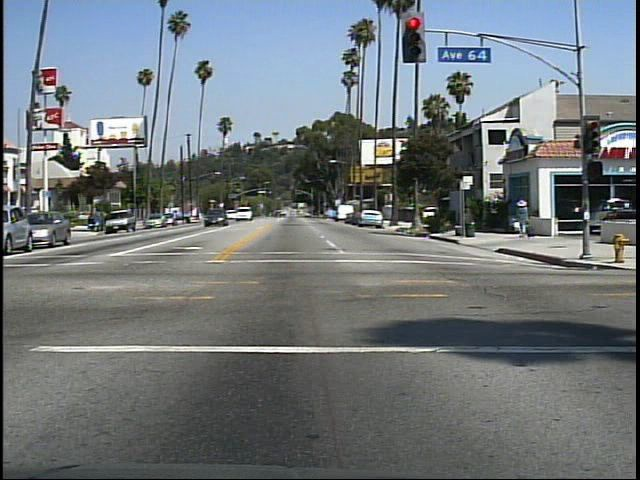person: (510, 194, 536, 247)
